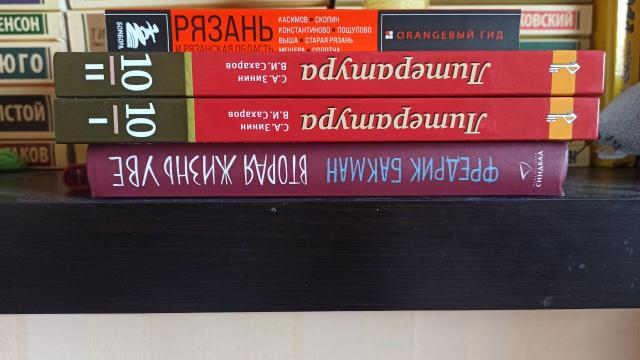book-s-spine: (86, 142, 567, 197), (54, 50, 606, 97), (53, 98, 600, 144), (105, 9, 521, 51), (334, 5, 593, 36), (602, 0, 639, 169), (0, 87, 68, 138), (67, 9, 108, 52), (517, 39, 590, 51)
